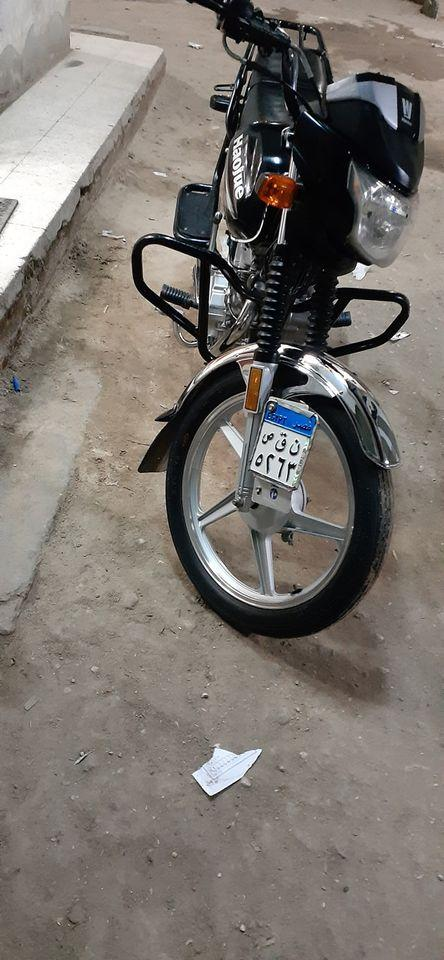License Plate: (247, 396, 320, 490)
